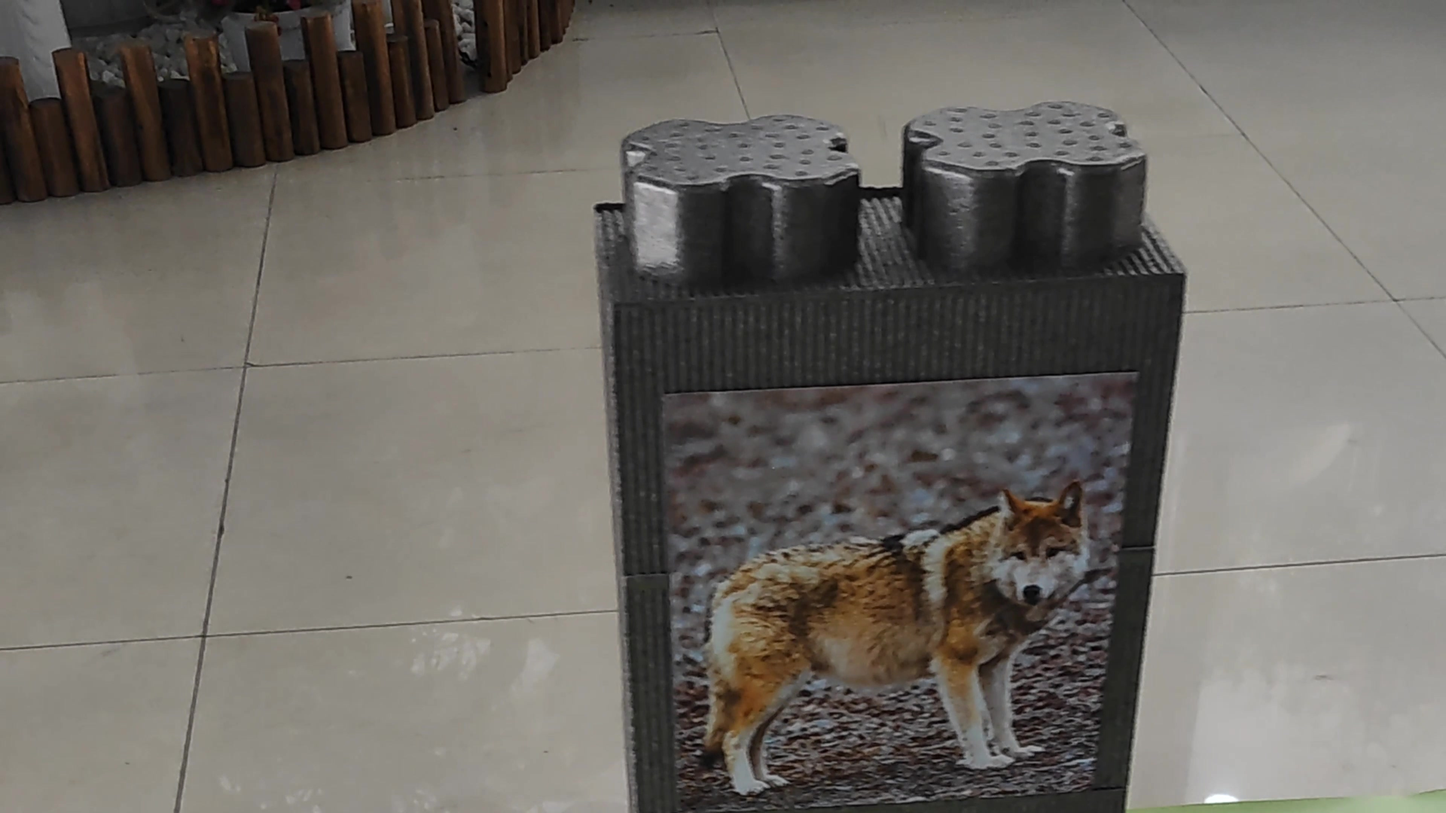wolf: (682, 400, 1088, 774)
